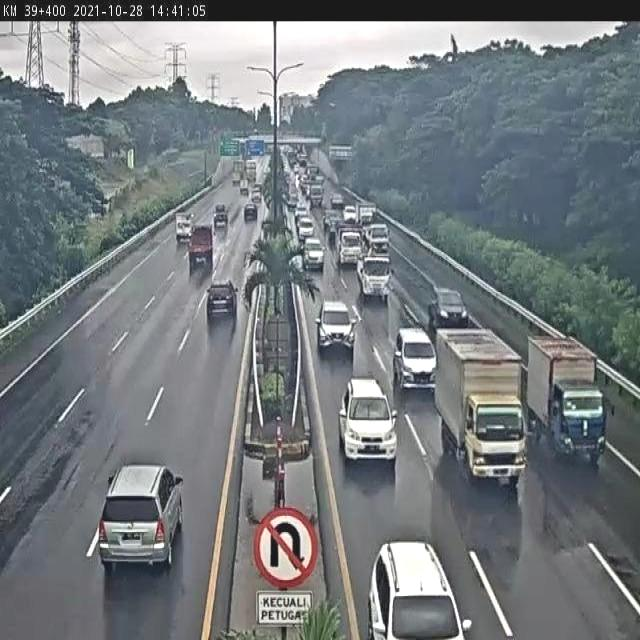Car: (367, 539, 470, 638), (97, 462, 183, 570), (339, 376, 398, 464), (392, 327, 437, 393), (314, 298, 356, 354), (356, 254, 392, 302), (429, 288, 468, 330), (206, 280, 238, 320), (338, 229, 363, 268), (302, 238, 325, 272), (365, 223, 389, 253), (296, 214, 314, 242), (213, 204, 228, 229), (244, 202, 258, 222), (330, 193, 345, 210), (343, 205, 357, 223)
Truck: (436, 328, 525, 482), (526, 338, 608, 466), (187, 225, 214, 266), (174, 212, 194, 242)
